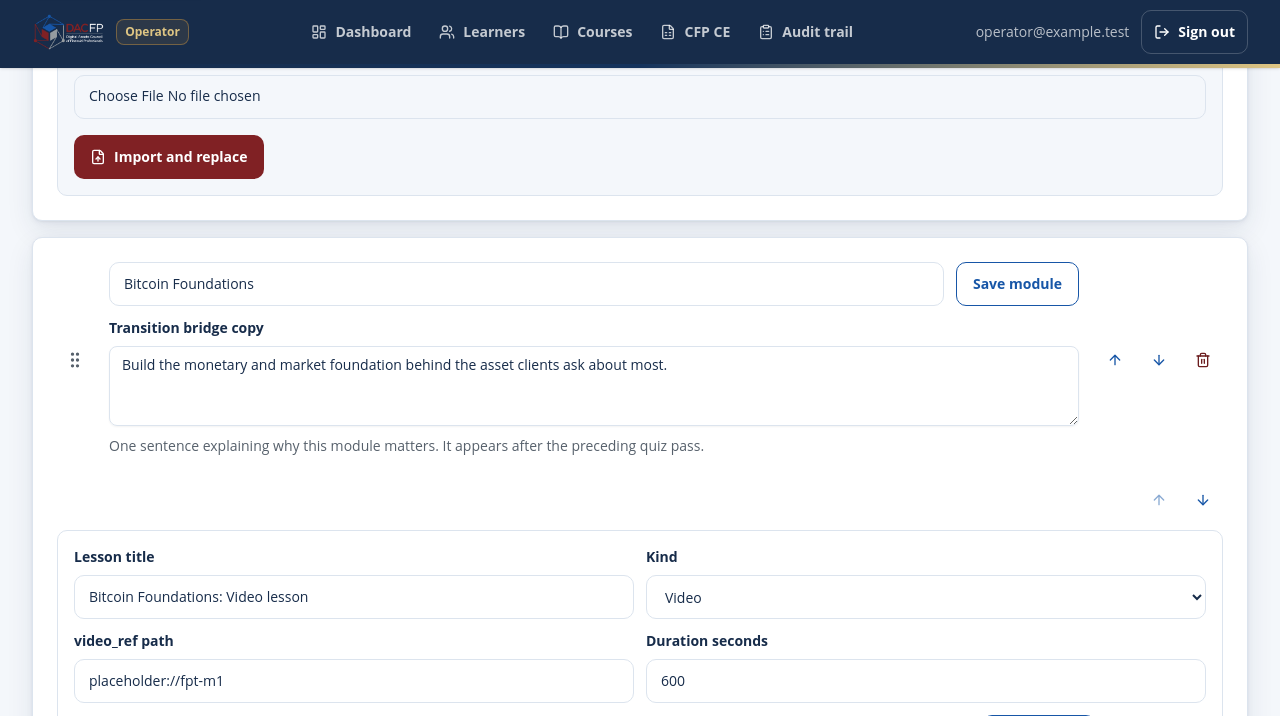
Test: Admin destructive confirm — brief #21 (alert-dialog, not window.confirm) › cancels without mutating
(page scrolled)
Click the button named "Delete Bitcoin Foundations" at (1203, 360), box [1183,338,1223,382]
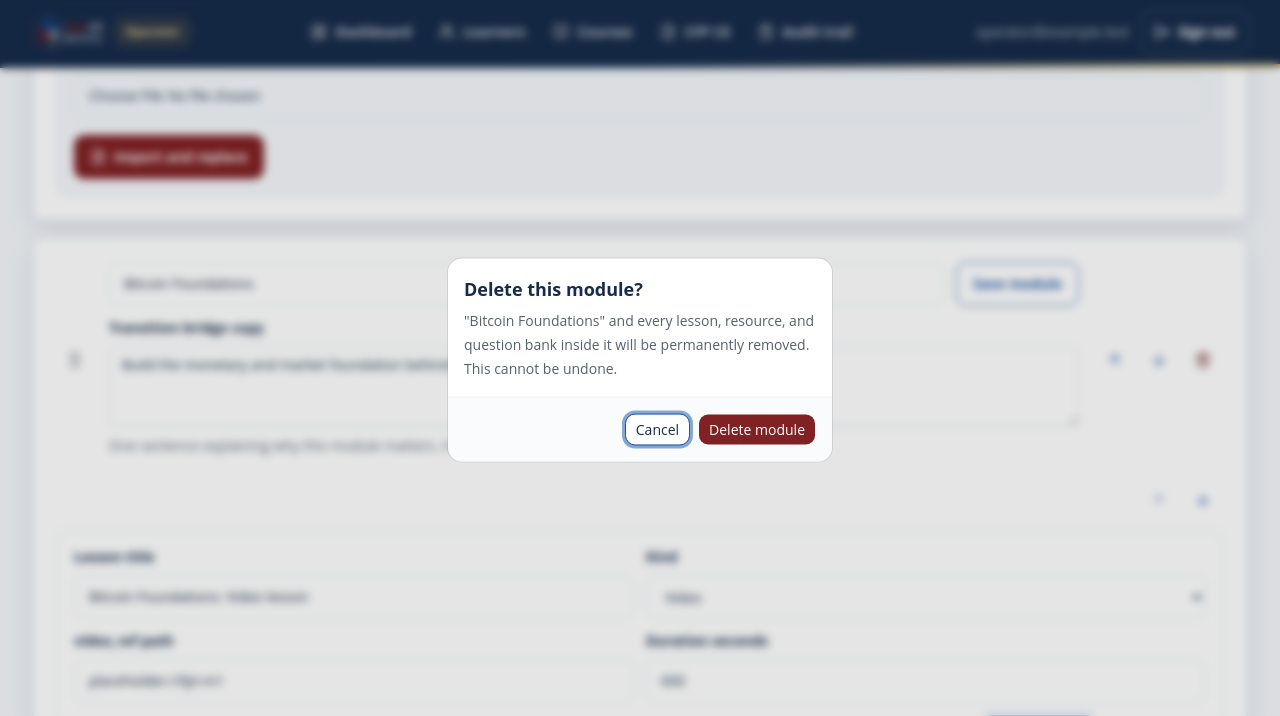
Click the button "Cancel" at (657, 430), box [625,414,690,446]
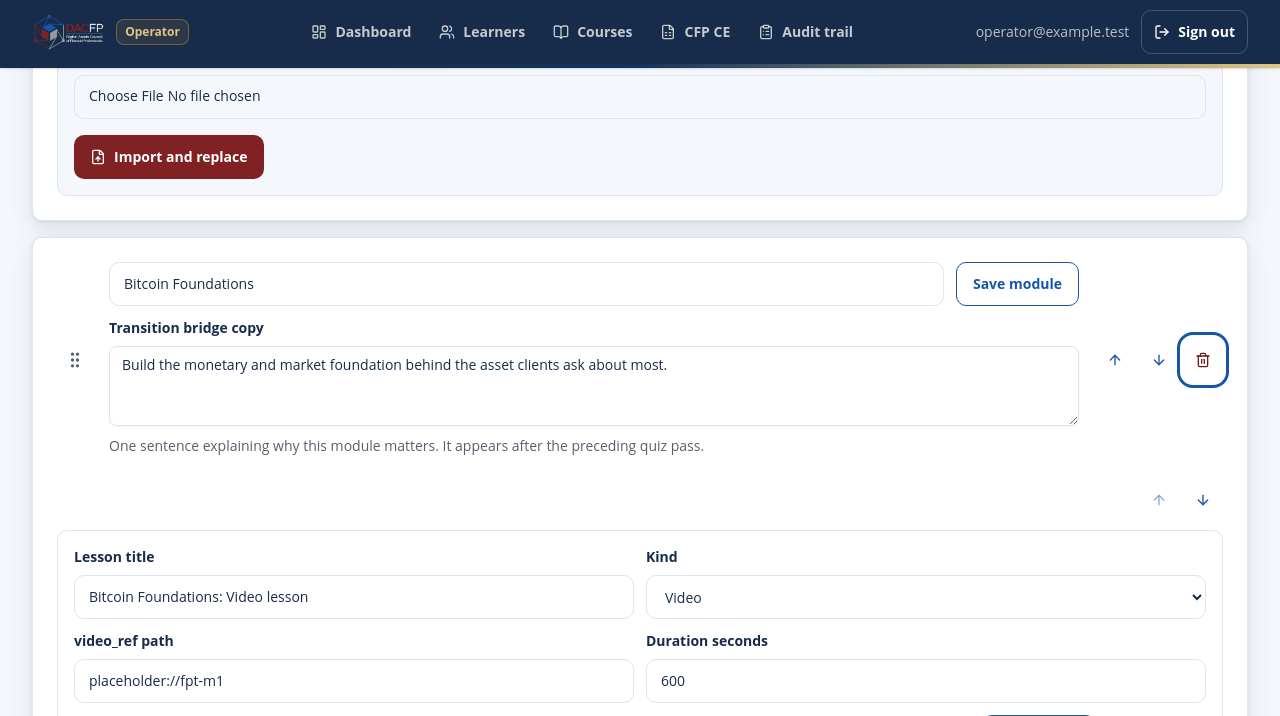
expect the dialog is gone: met
